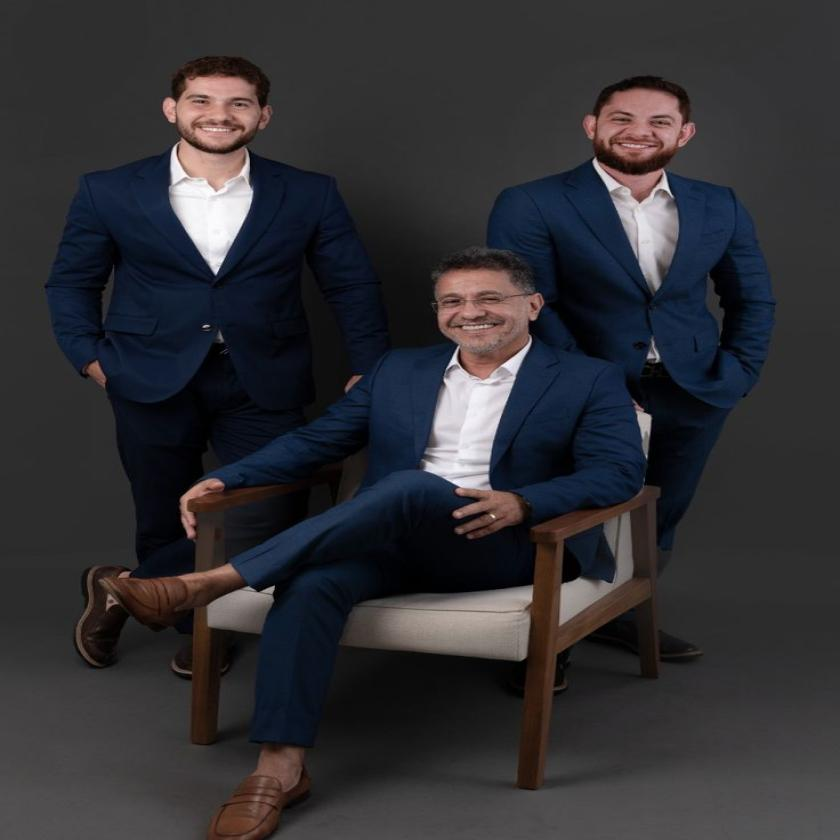Sin_casco: (422, 245, 552, 359), (580, 76, 712, 176), (168, 54, 282, 165)
